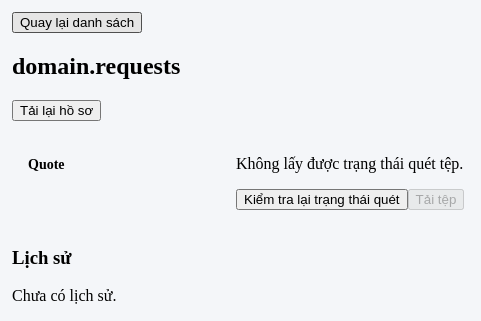
Scenario: allows a scan recheck after a quarantined file temporarily becomes unavailable
This screenshot has width=481, height=321.
Later steps or results of the test are not shown.
Expected: the text "Không lấy được trạng thái quét tệp." is shown, [236,155,463,172]
Expected: the button "Tải tệp" is disabled, [408,189,464,210]
Click the button "Kiểm tra lại trạng thái quét" at (322, 199), box [236,189,408,210]
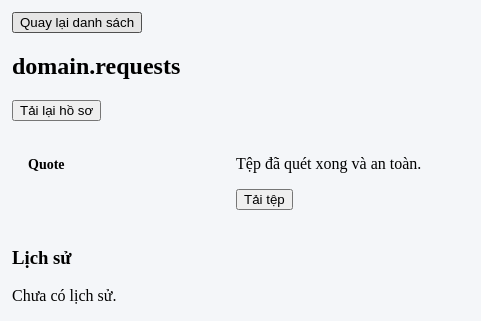
Result: the text "Tệp đã quét xong và an toàn." is shown at [236,155,421,172]
Result: the button "Tải tệp" is enabled at [236,189,293,210]
